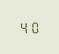four: (19, 20, 28, 34)
zero: (29, 20, 38, 33)
